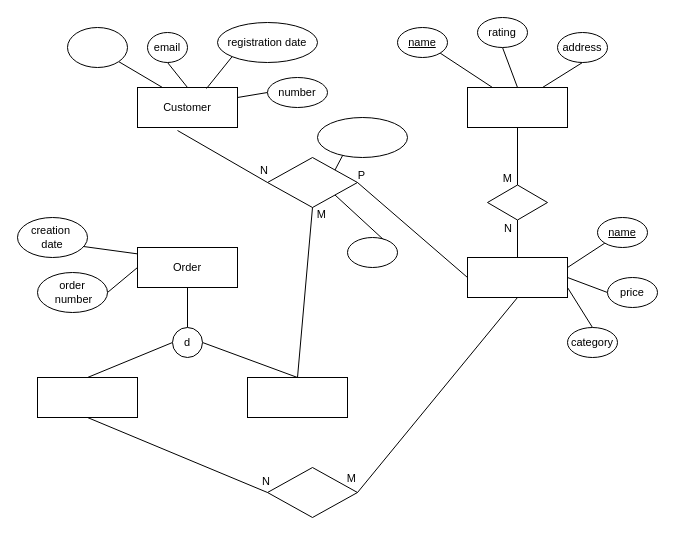
The diagram is 675 pixels wide and 535 high, and some of its shapes have lost their labels. The centre of each missing label's shape, as x and y in pixels:
"delivery time" belongs at point (362, 137).
"Instant Order" belongs at point (87, 397).
"Menu Item" belongs at point (517, 277).
"note" belongs at point (372, 252).
"Restaurant" belongs at point (517, 107).
"Scheduled Order" belongs at point (297, 397).
"username" belongs at point (97, 47).
